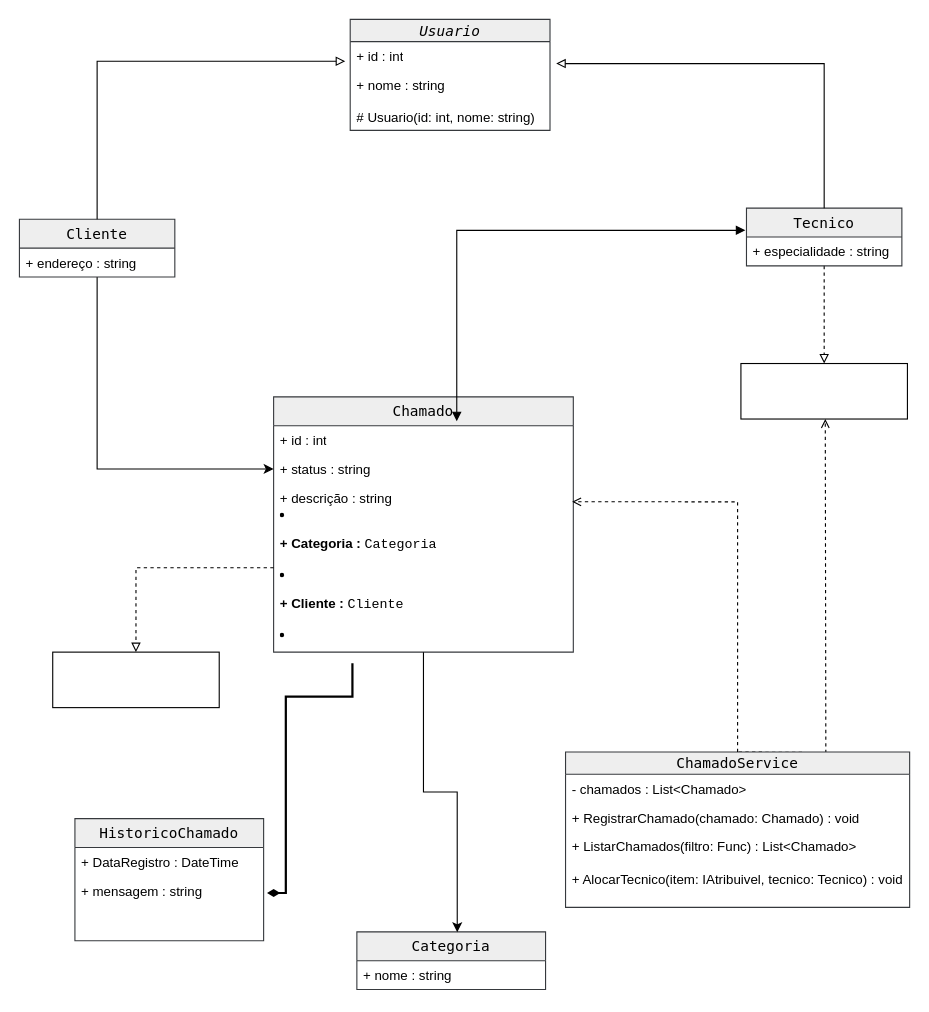
The diagram is 929 pixels wide and 1012 high, and some of its shapes have lost their labels. Here are the shapes that lost their labels. From the top down, the centre of each, then its label:
At point 823,390: "«interface» IAtribuivel".
At point 135,679: "«interface» I Encerravel".
